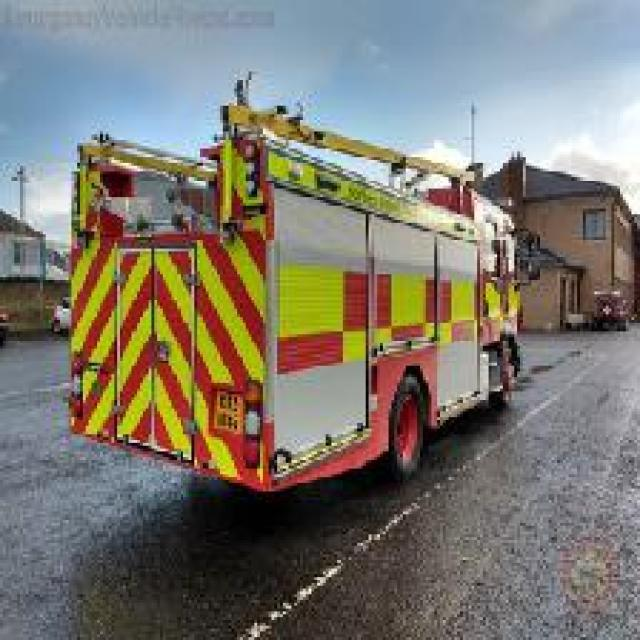emergency: (59, 69, 528, 498)
